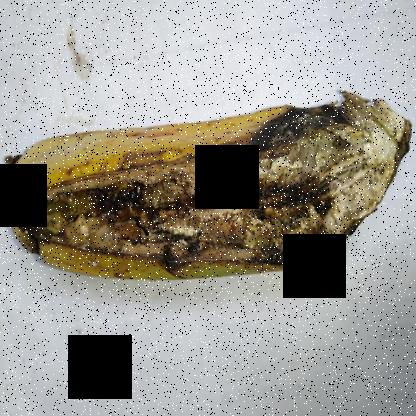rotten: (10, 78, 408, 315)
